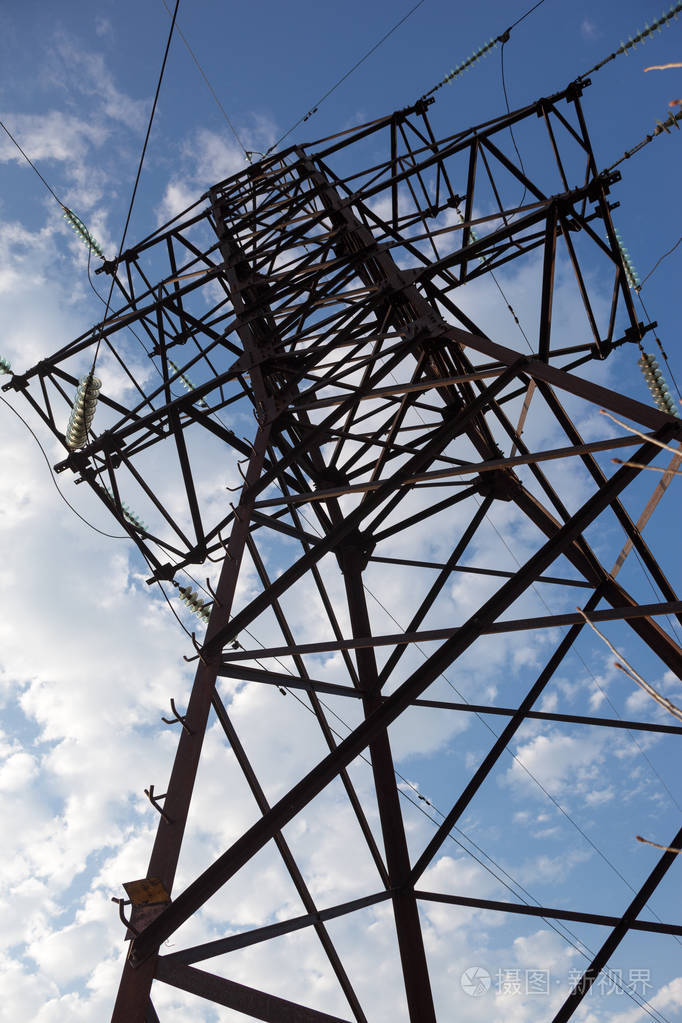insulator: (636, 354, 681, 428), (65, 374, 101, 450), (623, 4, 681, 48), (60, 210, 108, 259), (613, 232, 643, 292), (177, 587, 210, 626)
